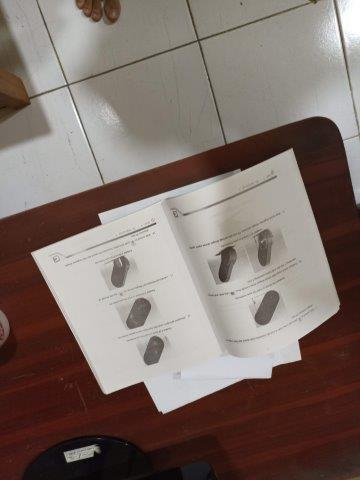kertas: (31, 148, 341, 414)
